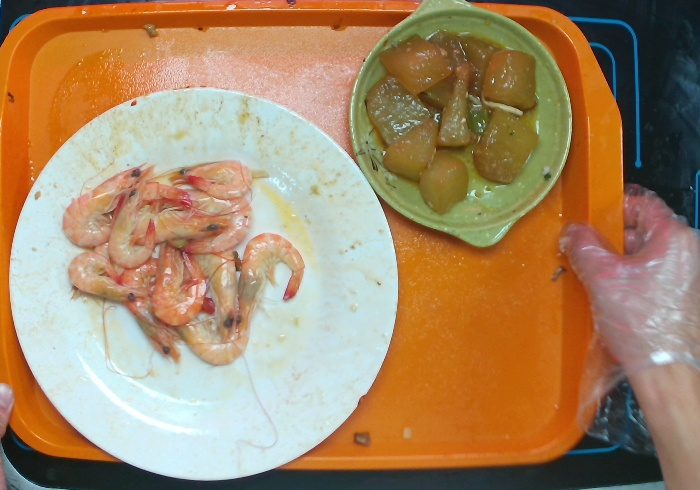NLDX-Da_Yuan_Pan: (2, 88, 402, 483)
NLDX-Lv_Hua_Shuang_Er_Die: (346, 4, 575, 254)
